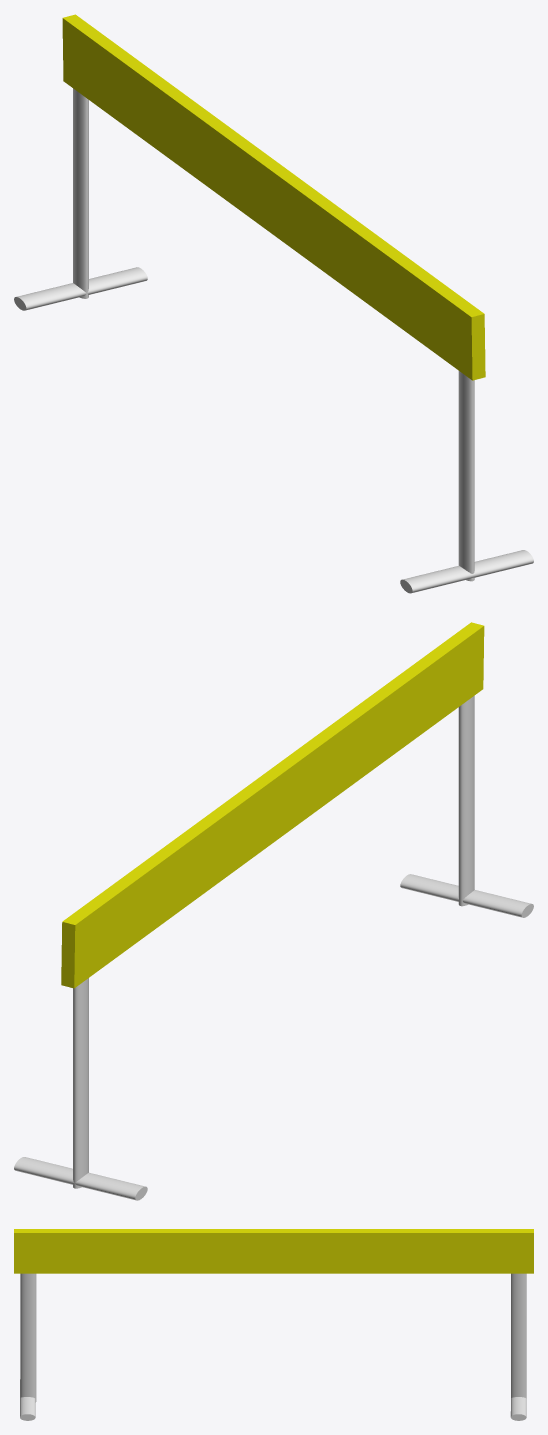
File: BlockerSign.fbx
3 views of the same model, one above another, from view 1: azimuth 30°, elevation 25°; view 2: azimuth 150°, elevation 25°; view 3: azimuth 270°, elevation 25° (orthographic). The views are drawn at different scales.
Parts seen in each view (by area): view 1: pCube1, pCylinder1, pCylinder2, pCylinder4, pCylinder3; view 2: pCube1, pCylinder1, pCylinder2, pCylinder3, pCylinder4; view 3: pCube1, pCylinder1, pCylinder2, pCylinder4, pCylinder3.
Part boxes in pixels (left/top/right/bottom): pCube1: left=62, top=14, right=485, bottom=380; pCylinder1: left=458, top=371, right=474, bottom=581; pCylinder2: left=73, top=88, right=88, bottom=298; pCylinder4: left=400, top=550, right=533, bottom=593; pCylinder3: left=14, top=267, right=147, bottom=310; pCube1: left=61, top=622, right=484, bottom=988; pCylinder1: left=458, top=696, right=474, bottom=906; pCylinder2: left=73, top=978, right=88, bottom=1188; pCylinder3: left=14, top=1157, right=147, bottom=1200; pCylinder4: left=400, top=874, right=533, bottom=917; pCube1: left=14, top=1229, right=533, bottom=1273; pCylinder1: left=20, top=1273, right=36, bottom=1402; pCylinder2: left=511, top=1273, right=526, bottom=1398; pCylinder4: left=20, top=1379, right=35, bottom=1420; pCylinder3: left=510, top=1397, right=526, bottom=1420.
Size of the model in its own units: 1.38 by 2.92 by 8.03.
